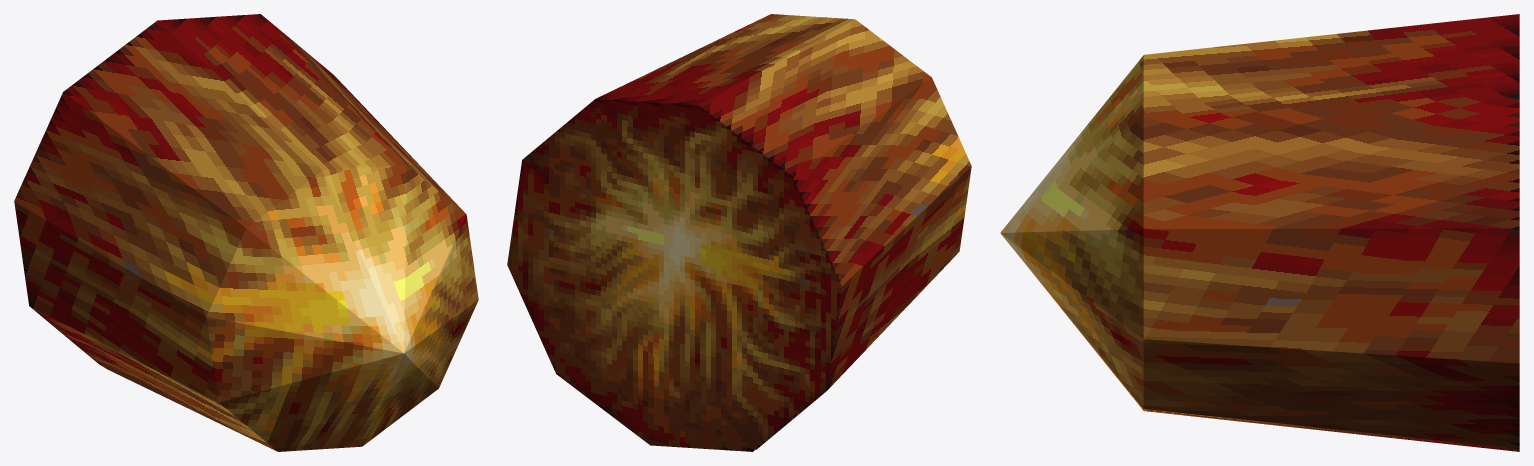
File: bullet.obj
The picture shows the model from 3 angles, left to right: view 1: azimuth 30°, elevation 25°; view 2: azimuth 150°, elevation 25°; view 3: azimuth 270°, elevation 25°; orthographic projection. The views are drawn at different scales.
Size of the model in its own units: 1.35 by 1.36 by 1.56.
Materials: 1 (1 with a texture image).
